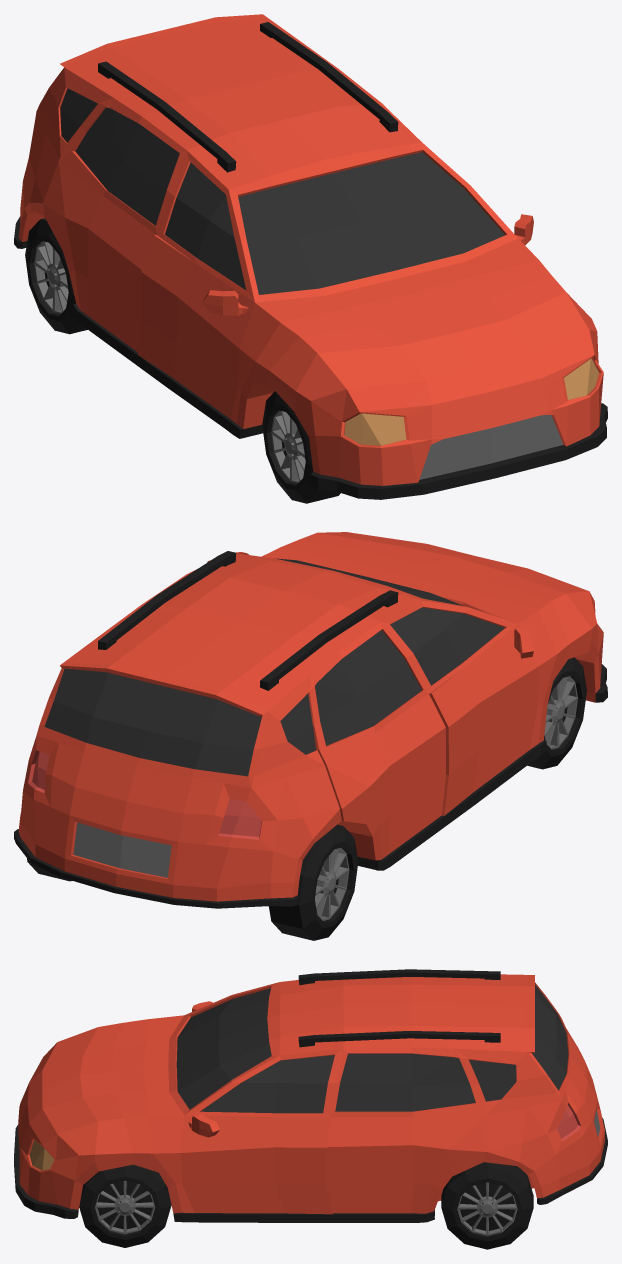
The model's file is suv-red.glb.
3 renders of one model, top to bottom at view 1: azimuth 30°, elevation 25°; view 2: azimuth 150°, elevation 25°; view 3: azimuth 270°, elevation 25°, orthographic. The views are drawn at different scales.
Parts seen in each view (by area): view 1: SUV_Cube; view 2: SUV_Cube; view 3: SUV_Cube.
Part boxes in pixels (<box>): SUV_Cube: <box>14,14,607,503</box>; SUV_Cube: <box>14,532,607,940</box>; SUV_Cube: <box>14,969,607,1249</box>.
Bounding box in the file's own units: 2.11 × 1.53 × 4.21.
